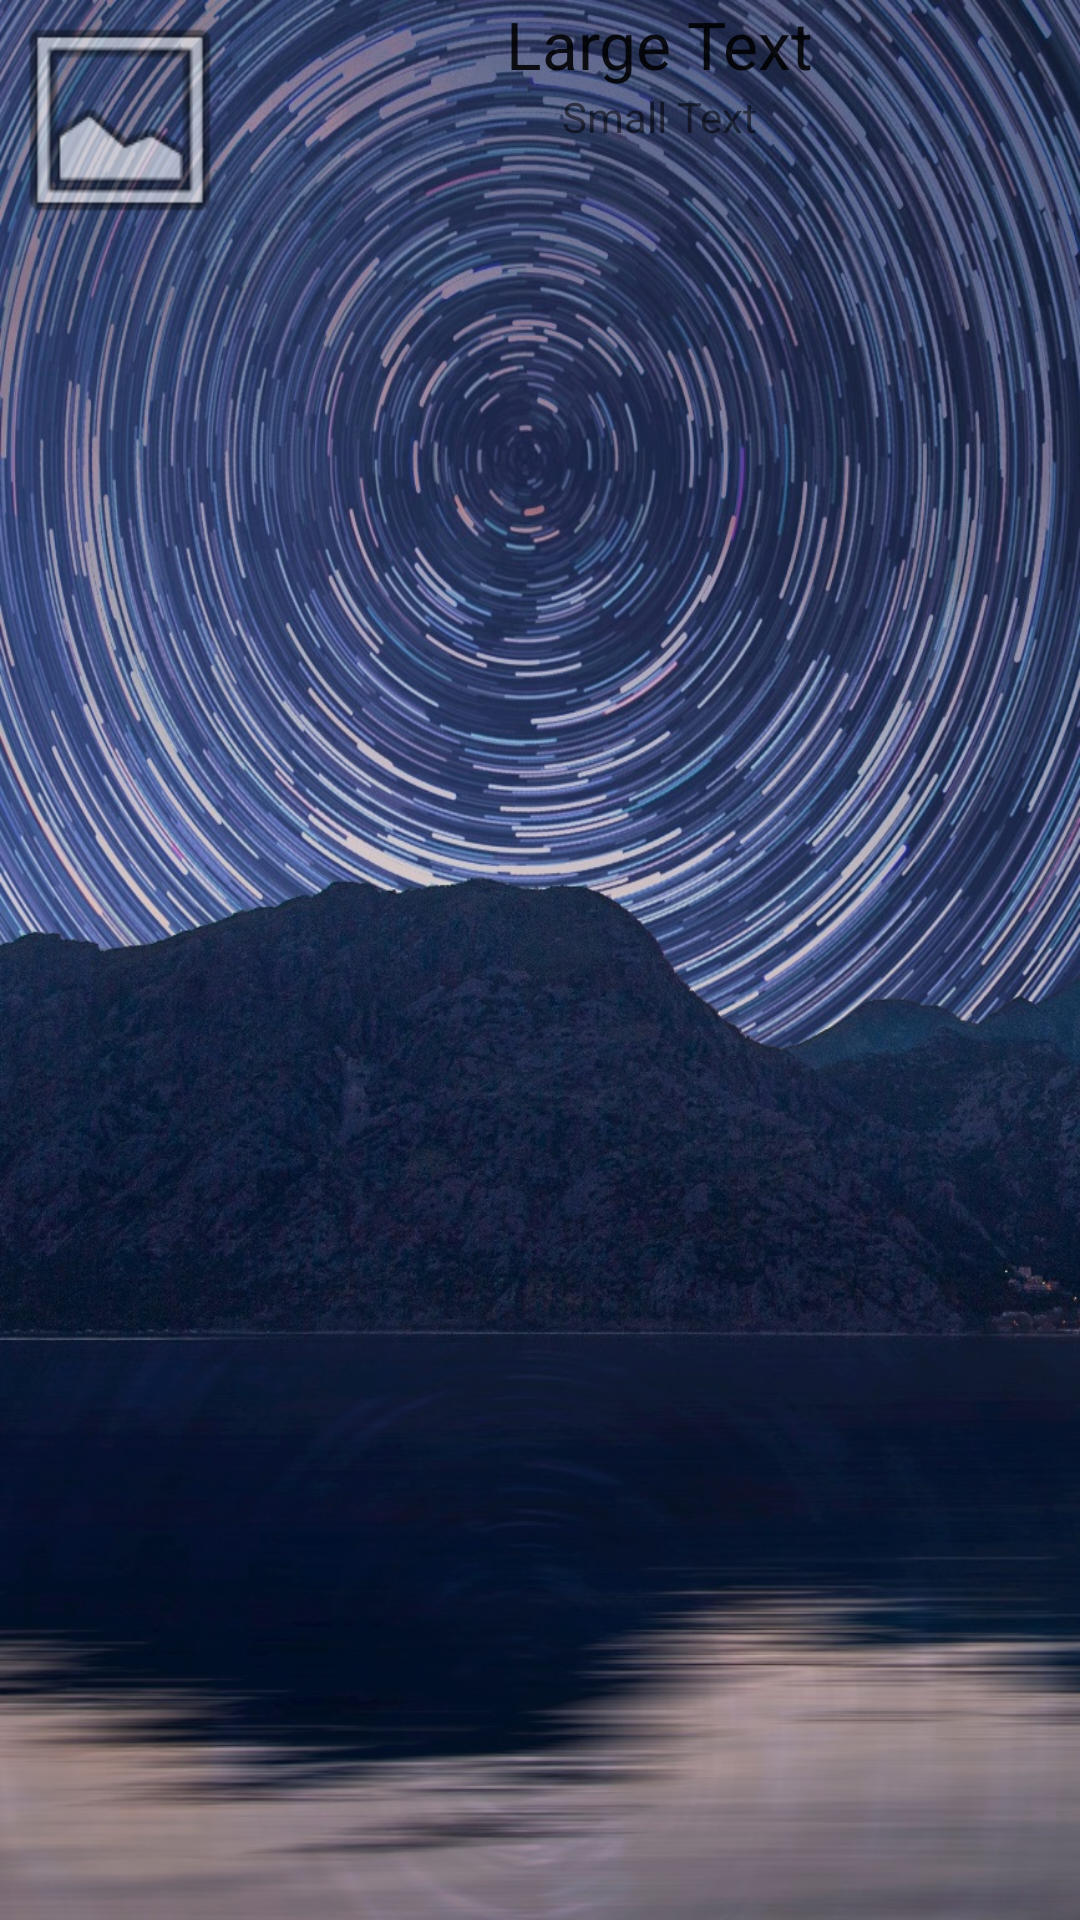

Point at icon controls on the screen. Image size 1080w x 1920h, points as (x=x, y=y).
Descripción del contenido de la imagen: (x=120, y=120)
